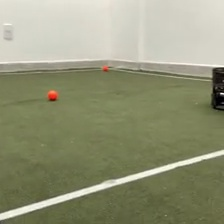ball: (47, 89, 58, 101), (101, 63, 109, 72)
robot: (210, 64, 224, 111)
